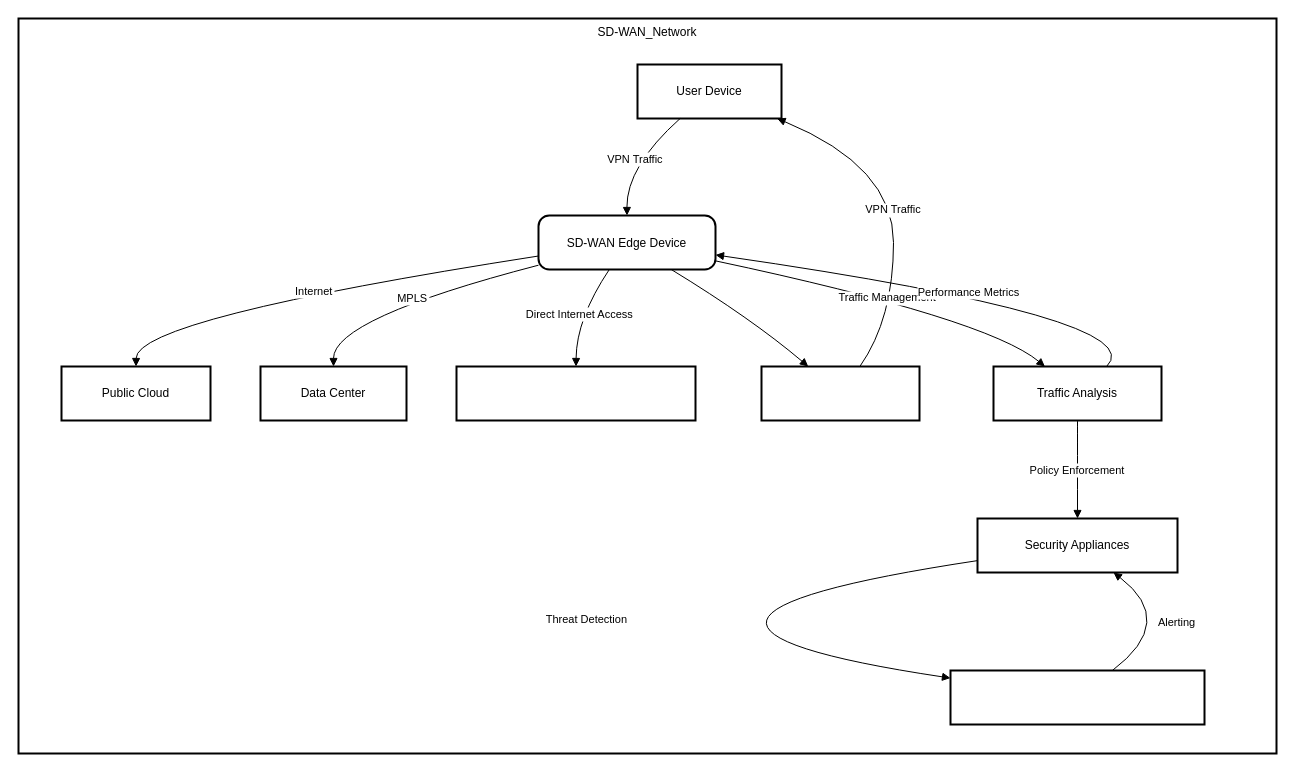
This 1294x771 diagram has some shape labels left out. The box of each missing label's shape, as (x1, y1, x2, y2) in pixels:
Branch Office: (760, 365, 920, 421)
Internet Service Provider: (455, 365, 696, 421)
Security Operations Center: (949, 669, 1205, 725)
